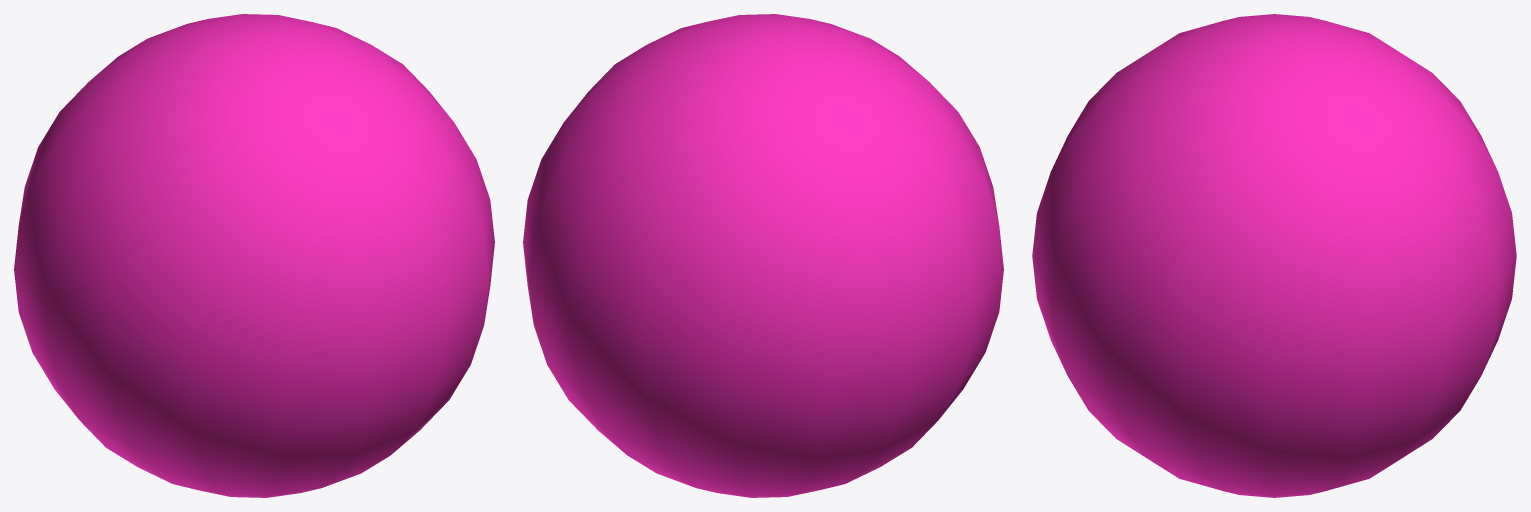
Rendered from simple_sphere.gltf.
3 views of the same model, side by side, from view 1: azimuth 30°, elevation 25°; view 2: azimuth 150°, elevation 25°; view 3: azimuth 270°, elevation 25° (orthographic).
Visible parts, largest first — view 1: Sphere; view 2: Sphere; view 3: Sphere.
Boxes of the visible parts, bbox=[...] form: Sphere: bbox=[14, 14, 494, 497]; Sphere: bbox=[523, 14, 1003, 497]; Sphere: bbox=[1032, 14, 1516, 497].
Bounding box in the file's own units: 2 × 2 × 2.
